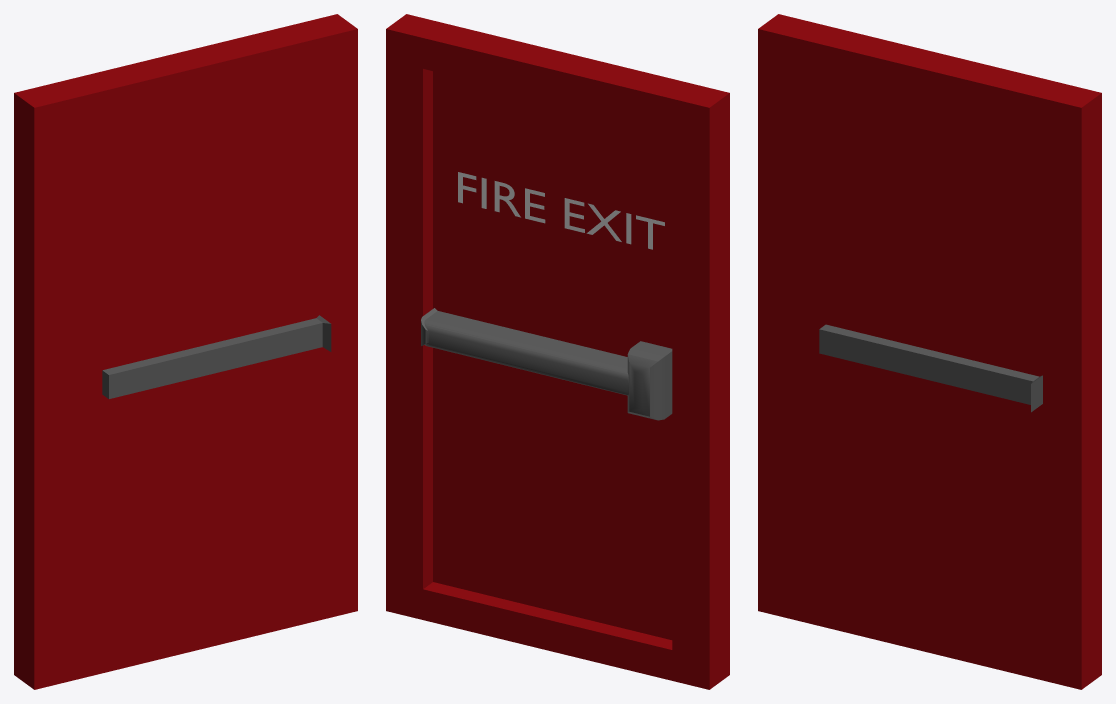
File: FELC.fbx
3 views of the same model, side by side, from view 1: azimuth 30°, elevation 25°; view 2: azimuth 150°, elevation 25°; view 3: azimuth 330°, elevation 25° (orthographic).
Parts seen in each view (by area): view 1: Cube.005; view 2: Cube.005, Text; view 3: Cube.005.
Part boxes in pixels (x1,y1,x2,y2): Cube.005: (14,14,357,689); Cube.005: (386,14,729,689); Text: (458,172,664,249); Cube.005: (758,14,1101,689).
Size of the model in its own units: 121 by 208 by 26.88.
